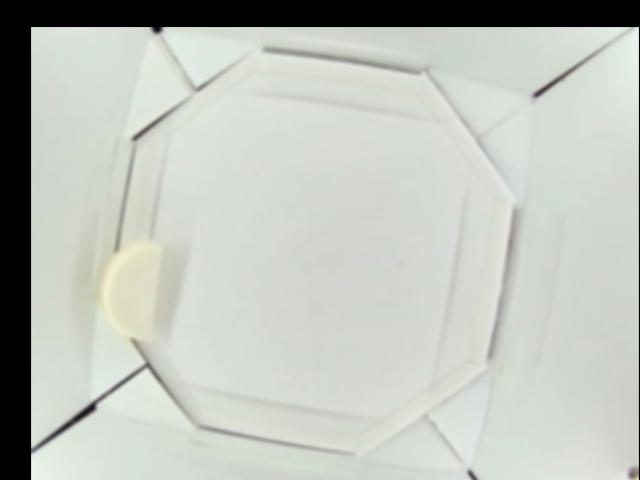Mooli: (97, 240, 162, 337)
